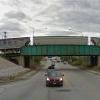Bridge: (8, 28, 95, 64)
